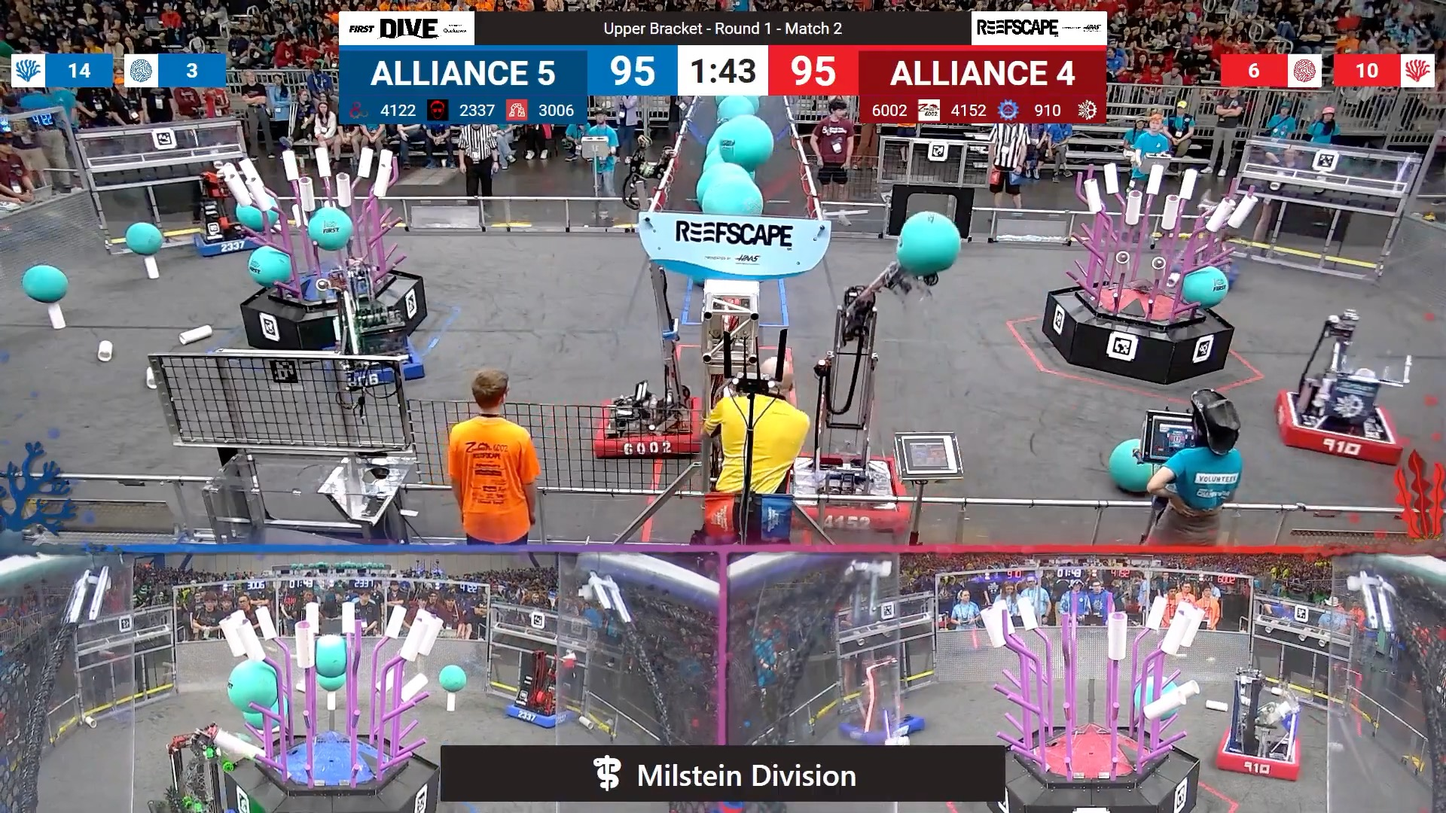bumpers: (1270, 388, 1408, 467), (786, 460, 913, 537), (586, 399, 707, 461), (1207, 718, 1306, 785), (317, 340, 428, 389), (833, 709, 932, 748), (186, 221, 278, 260), (499, 697, 580, 732)
